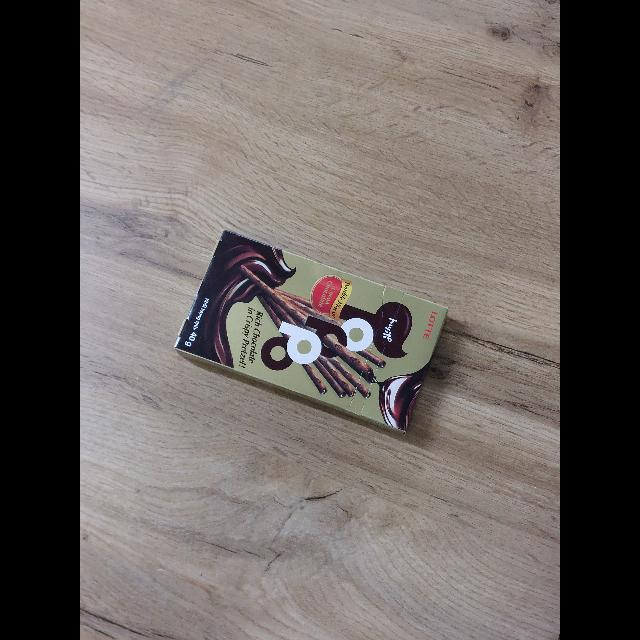banh_toppo_socola: (175, 231, 447, 433)
